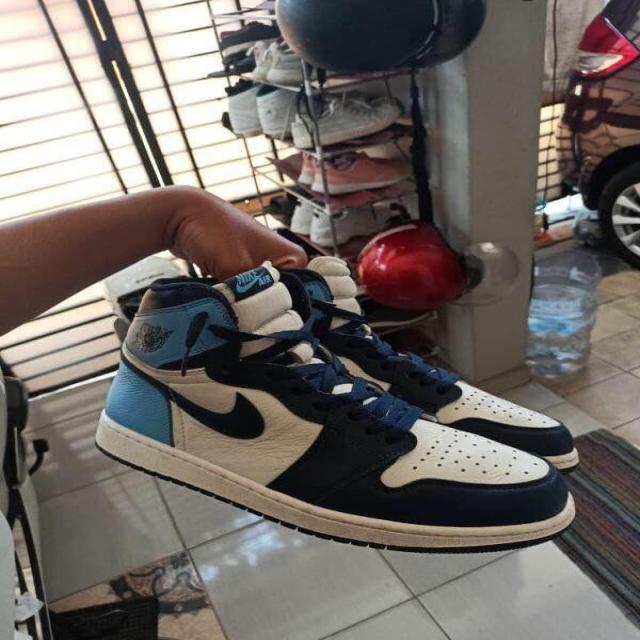nike original jordan 1: (90, 261, 578, 558), (240, 255, 582, 480)
